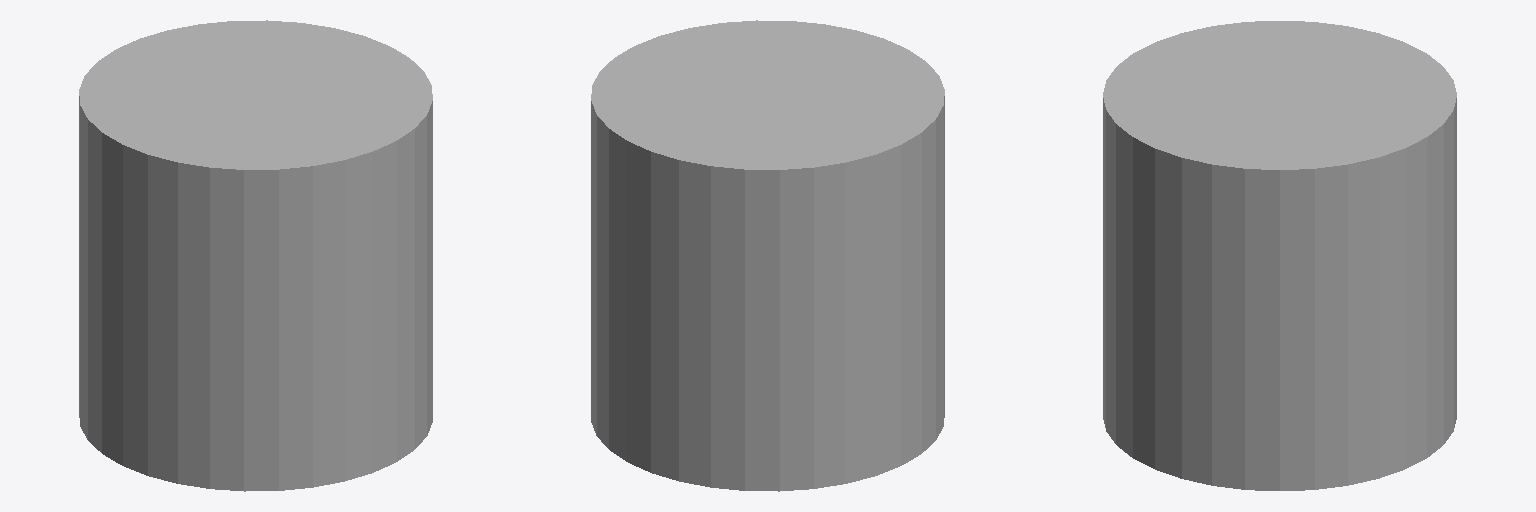
URDF robot description (root):
<robot name="root">
  <link name="link_001">
    <visual>
      <origin xyz="0 0 0" rpy="0 0 0"/>
      <geometry>
        <mesh filename="cylinderlarge.obj" scale="0.800E+00 0.800E+00 0.8000E+00"/>
      </geometry>
      <material name="">
        <color rgba="7.50E-01 7.50E-01 7.50E-01 1"/>
      </material>
    </visual>
    <collision>
      <origin xyz="0 0 0" rpy="0 0 0"/>
      <geometry>
        <mesh filename="cylinderlarge.obj" scale="0.8000E+00 0.8000E+00 0.8000E+00"/>
      </geometry>
    </collision>
    <inertial>
      <mass value="0.16"/> <!-- 质量：0.1kg -->
    </inertial>
  </link>
</robot>

--- Facts derived from the render (not from the file) ---
Views: 3 orthographic renders of the robot side by side, from view 1: azimuth 30°, elevation 25°; view 2: azimuth 150°, elevation 25°; view 3: azimuth 270°, elevation 25°.
Robot: root — 1 links, 0 joints (none); root link link_001; default pose: all joints at 0.
Visible links, largest first — view 1: link_001; view 2: link_001; view 3: link_001.
Boxes of the visible links, x1,y1,x2,y2 form: link_001: (79,20,432,491); link_001: (591,20,944,491); link_001: (1103,21,1456,490).
Bounding box of the posed robot: 0.096 × 0.096 × 0.096 m (x, y, z).
1 mesh visuals loaded from 1 distinct referenced files (1 OBJ).
